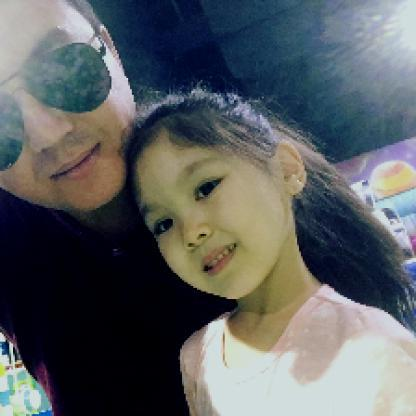child: (131, 92, 415, 415)
